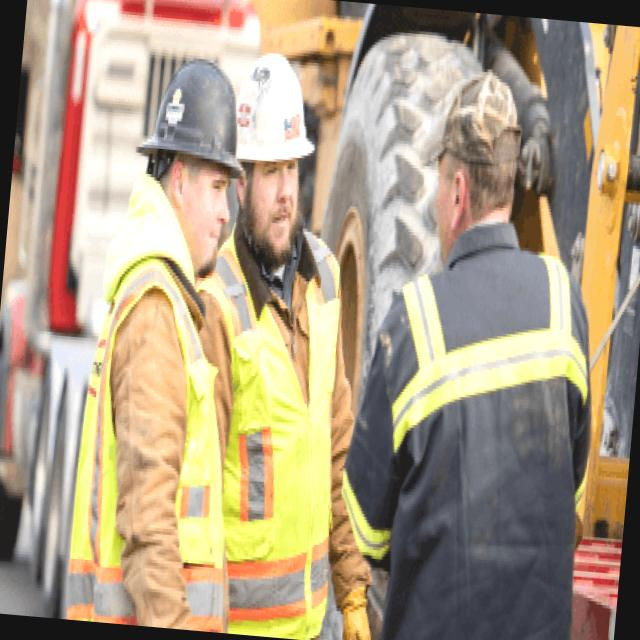helmet: (130, 54, 258, 185), (228, 49, 326, 172)
no-goggles: (184, 160, 236, 204)
no-helmet: (415, 68, 540, 220)
vest: (373, 235, 595, 640), (68, 250, 232, 630), (208, 242, 353, 640)
